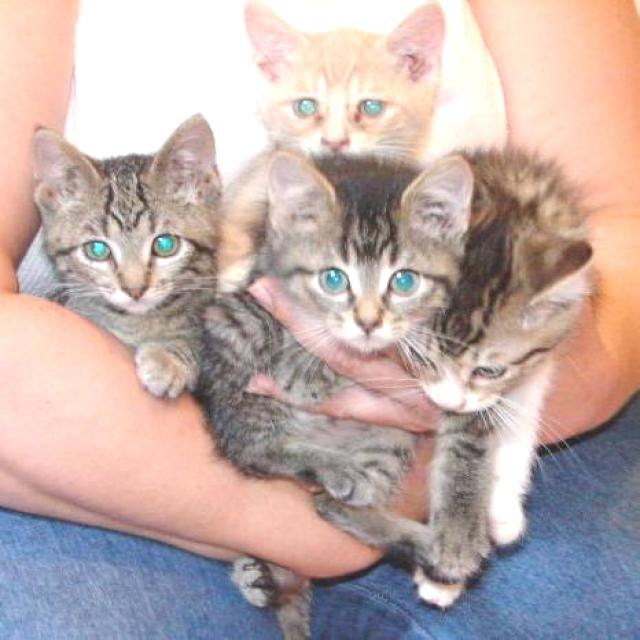Kucing: (20, 107, 226, 346), (217, 0, 476, 153), (248, 174, 458, 339), (419, 326, 579, 466)
